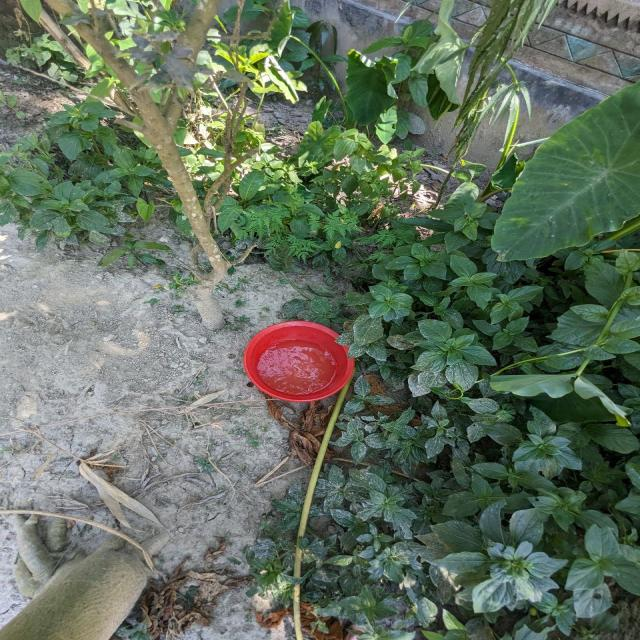Breeding Place: (224, 297, 371, 411)
